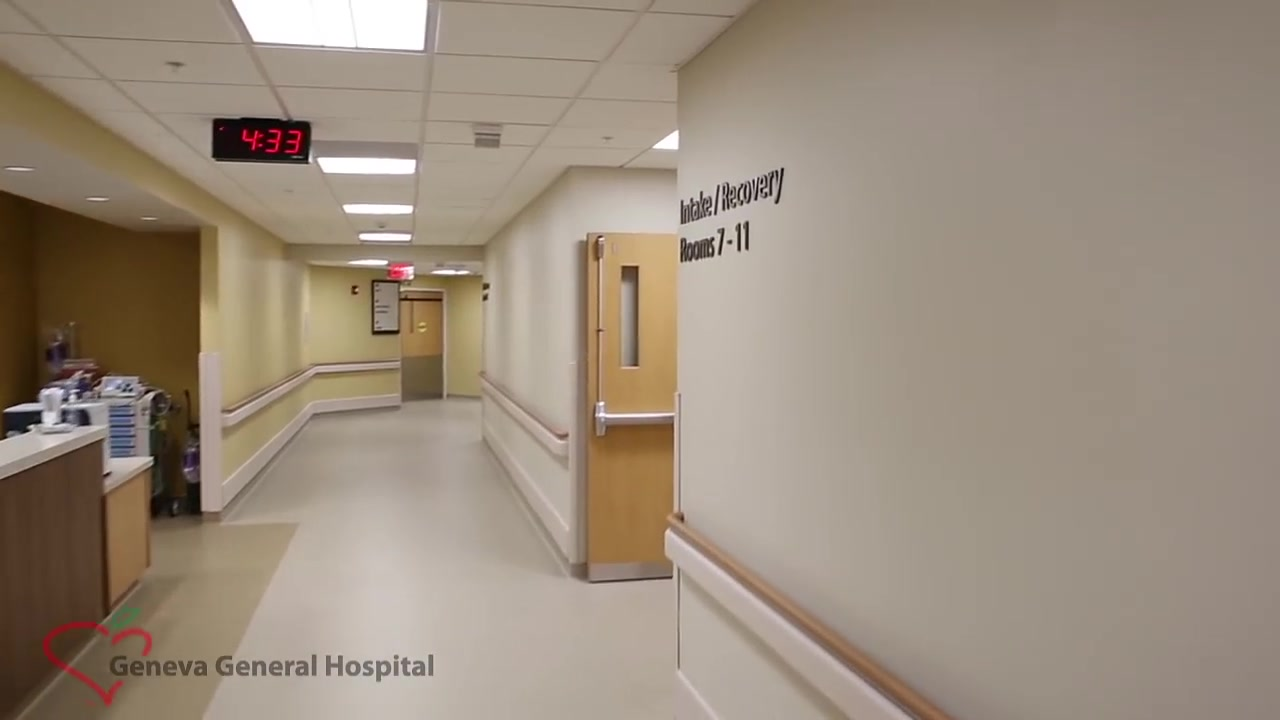countertop: (1, 425, 104, 468), (103, 457, 154, 493)
hallway_assist_bar: (662, 506, 957, 720), (477, 371, 567, 466), (221, 363, 315, 428)
push_latch: (592, 397, 675, 436)
